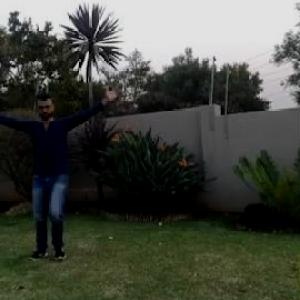takeoff: (1, 88, 127, 259)
